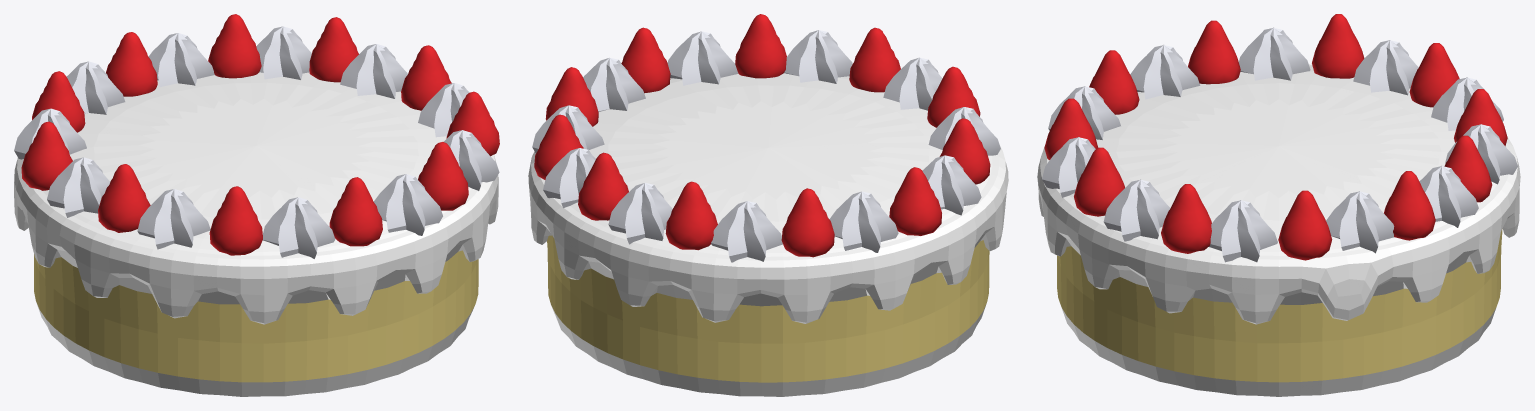
Rendered from Cake.fbx.
The picture shows the model from 3 angles, left to right: view 1: azimuth 30°, elevation 25°; view 2: azimuth 150°, elevation 25°; view 3: azimuth 270°, elevation 25°; orthographic projection.
Visible parts, largest first — view 1: 円柱, cream_solo.003, cream_solo.004, cream_solo.007, 立方体.002, 立方体.003, cream_solo.008, cream_solo.001, 立方体.001, 立方体.011, cream_solo.002, 立方体.005 (+11 smaller); view 2: 円柱, cream_solo.010, cream_solo.006, cream_solo.002, 立方体.007, cream_solo.005, 立方体.004, cream_solo.007, 立方体.010, 立方体.005, 立方体.011, 立方体.003 (+11 smaller); view 3: 円柱, cream_solo.009, cream_solo.001, cream_solo.005, 立方体.008, 立方体.006, cream_solo.008, cream_solo.004, 立方体.009, cream_solo.006, 立方体.004, 立方体.001 (+11 smaller).
Part boxes in pixels (x1,y1,x2,y2): 円柱: [14, 72, 498, 396]; cream_solo.003: [262, 197, 335, 258]; cream_solo.004: [137, 189, 210, 249]; cream_solo.007: [373, 174, 442, 235]; 立方体.002: [209, 186, 262, 255]; 立方体.003: [329, 177, 382, 246]; cream_solo.008: [47, 157, 110, 217]; cream_solo.001: [340, 44, 407, 98]; 立方体.001: [98, 164, 150, 232]; 立方体.011: [208, 14, 261, 78]; cream_solo.002: [148, 33, 214, 87]; 立方体.005: [418, 142, 468, 210]; 円柱: [528, 73, 1008, 396]; cream_solo.010: [711, 201, 782, 262]; cream_solo.006: [829, 191, 898, 252]; cream_solo.002: [608, 183, 672, 244]; 立方体.007: [781, 188, 834, 257]; cream_solo.005: [667, 31, 738, 85]; 立方体.004: [889, 167, 941, 235]; cream_solo.007: [784, 30, 852, 83]; 立方体.010: [665, 181, 717, 250]; 立方体.005: [735, 14, 786, 78]; 立方体.011: [578, 152, 628, 220]; 立方体.003: [849, 27, 900, 92]; 円柱: [1037, 64, 1520, 396]; cream_solo.009: [1209, 200, 1277, 262]; cream_solo.001: [1326, 191, 1394, 253]; cream_solo.005: [1103, 179, 1170, 241]; 立方体.008: [1278, 190, 1332, 260]; 立方体.006: [1161, 184, 1211, 253]; cream_solo.008: [1238, 27, 1310, 80]; cream_solo.004: [1130, 45, 1200, 99]; 立方体.009: [1384, 171, 1435, 240]; cream_solo.006: [1353, 40, 1418, 95]; 立方体.004: [1312, 14, 1364, 78]; 立方体.001: [1188, 20, 1240, 84].
Size of the model in its own units: 712 by 337 by 712.
